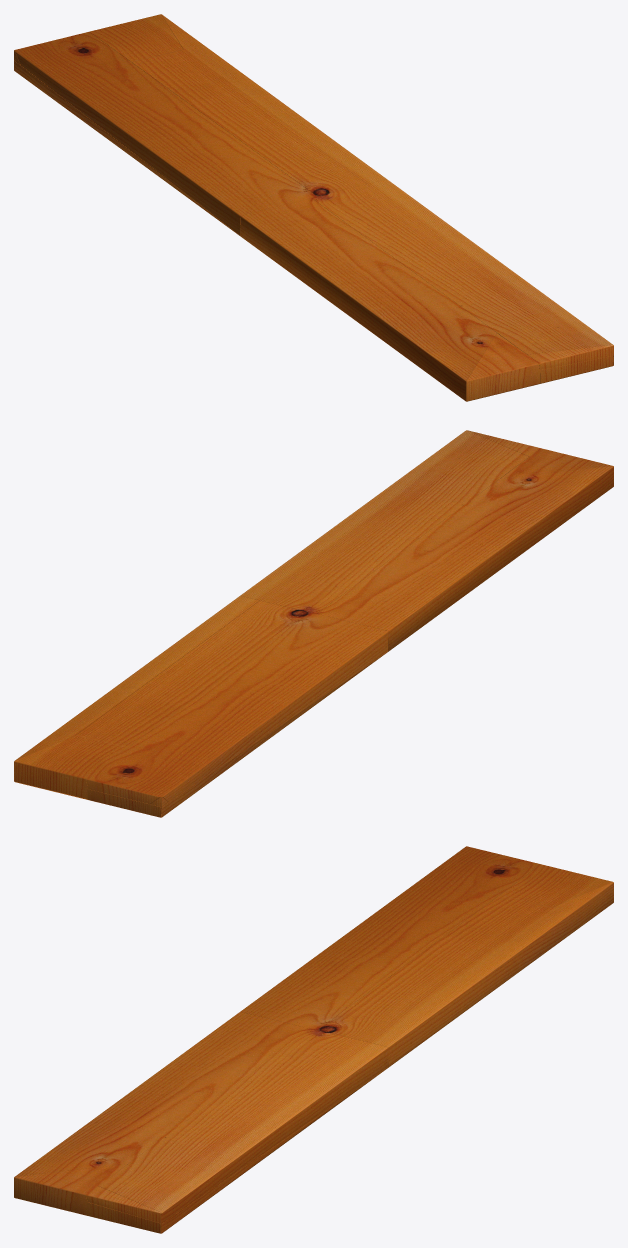
File: Plank1Frac.fbx
3 views of the same model, one above another, from view 1: azimuth 30°, elevation 25°; view 2: azimuth 150°, elevation 25°; view 3: azimuth 330°, elevation 25° (orthographic).
Parts seen in each view (by area): view 1: Cube.002_cell.002, Cube.002_cell.015, Cube.002_cell.016, Cube.002_cell.004, Cube.002_cell.005, Cube.002_cell.008, Cube.002_cell, Cube.002_cell.010, Cube.002_cell.014, Cube.002_cell.001; view 2: Cube.002_cell.002, Cube.002_cell.015, Cube.002_cell.016, Cube.002_cell.004, Cube.002_cell.005, Cube.002_cell, Cube.002_cell.008, Cube.002_cell.010, Cube.002_cell.003; view 3: Cube.002_cell.016, Cube.002_cell.002, Cube.002_cell.015, Cube.002_cell.004, Cube.002_cell.005, Cube.002_cell.008, Cube.002_cell, Cube.002_cell.009, Cube.002_cell.014, Cube.002_cell.001.
Part boxes in pixels (left/top/right/bottom): Cube.002_cell.002: left=14, top=32, right=316, bottom=235; Cube.002_cell.015: left=240, top=198, right=496, bottom=401; Cube.002_cell.016: left=312, top=179, right=612, bottom=354; Cube.002_cell.004: left=131, top=49, right=366, bottom=196; Cube.002_cell.005: left=161, top=14, right=386, bottom=183; Cube.002_cell.008: left=466, top=333, right=539, bottom=401; Cube.002_cell: left=89, top=14, right=183, bottom=61; Cube.002_cell.010: left=14, top=60, right=239, bottom=235; Cube.002_cell.014: left=527, top=345, right=613, bottom=369; Cube.002_cell.001: left=540, top=356, right=613, bottom=383; Cube.002_cell.002: left=86, top=613, right=388, bottom=804; Cube.002_cell.015: left=317, top=466, right=613, bottom=651; Cube.002_cell.016: left=240, top=430, right=528, bottom=613; Cube.002_cell.004: left=14, top=600, right=309, bottom=799; Cube.002_cell.005: left=14, top=596, right=259, bottom=781; Cube.002_cell: left=14, top=735, right=127, bottom=799; Cube.002_cell.008: left=501, top=448, right=612, bottom=478; Cube.002_cell.010: left=161, top=652, right=387, bottom=817; Cube.002_cell.003: left=87, top=789, right=160, bottom=817; Cube.002_cell.016: left=99, top=1029, right=388, bottom=1222; Cube.002_cell.002: left=240, top=846, right=540, bottom=1029; Cube.002_cell.015: left=14, top=1011, right=310, bottom=1177; Cube.002_cell.004: left=318, top=895, right=551, bottom=1041; Cube.002_cell.005: left=368, top=882, right=613, bottom=1067; Cube.002_cell.008: left=14, top=1164, right=127, bottom=1215; Cube.002_cell: left=500, top=864, right=612, bottom=907; Cube.002_cell.009: left=161, top=1072, right=381, bottom=1233; Cube.002_cell.014: left=86, top=1186, right=161, bottom=1223; Cube.002_cell.001: left=87, top=1202, right=160, bottom=1233.
Bounding box in the file's own units: 191 × 26.19 × 1011.
1 material, 1 textured.
